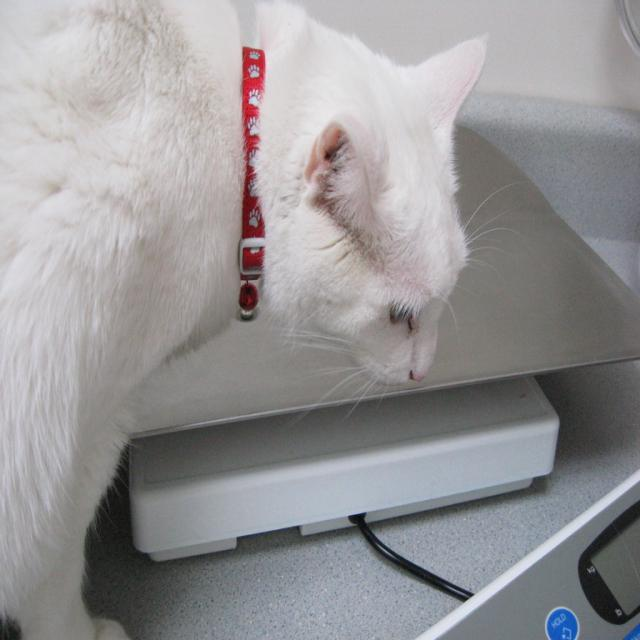Cat: (0, 0, 527, 638)
